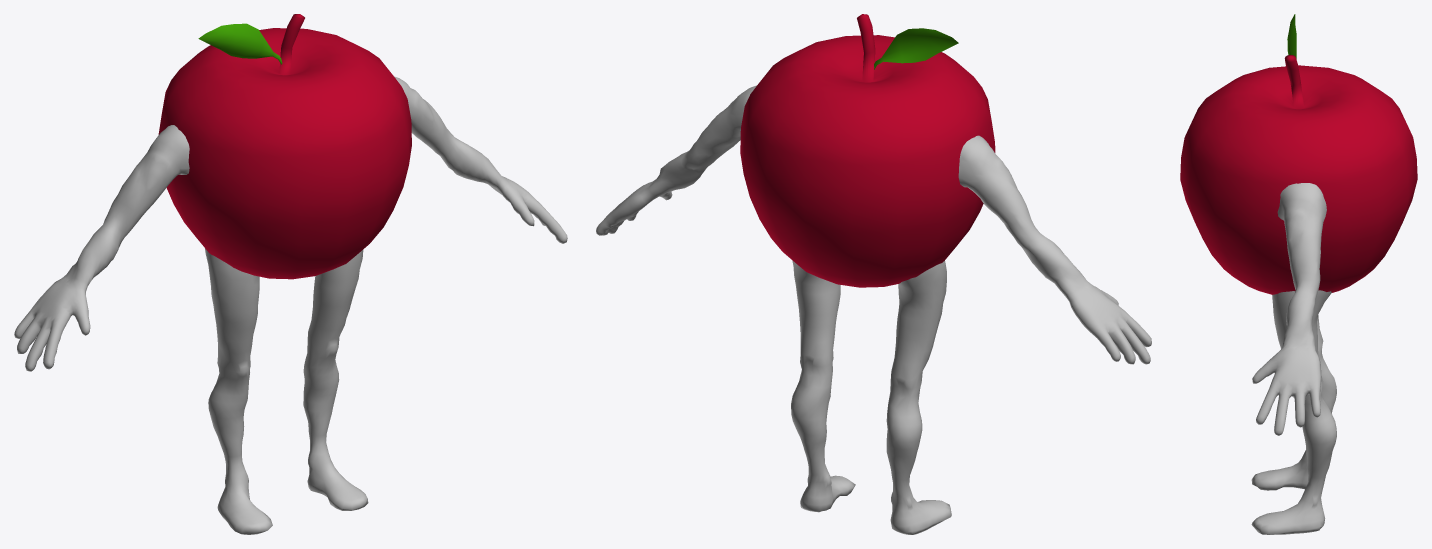
The model's file is appleheadMan.fbx.
3 renders of one model, left to right at view 1: azimuth 30°, elevation 25°; view 2: azimuth 150°, elevation 25°; view 3: azimuth 270°, elevation 25°, orthographic. The views are drawn at different scales.
Visible parts, largest first — view 1: appleHuman:apple_mesh, body_mesh2; view 2: appleHuman:apple_mesh, body_mesh2; view 3: appleHuman:apple_mesh, body_mesh2.
Part boxes in pixels (x1,y1,x2,y2): appleHuman:apple_mesh: (158,14,411,279); body_mesh2: (14,76,567,534); appleHuman:apple_mesh: (740,14,995,287); body_mesh2: (596,85,1151,534); appleHuman:apple_mesh: (1180,14,1417,294); body_mesh2: (1251,183,1336,534).
Bounding box in the file's own units: 94.36 × 83.03 × 38.89.
